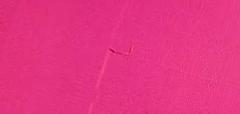snag: (105, 42, 137, 60)
